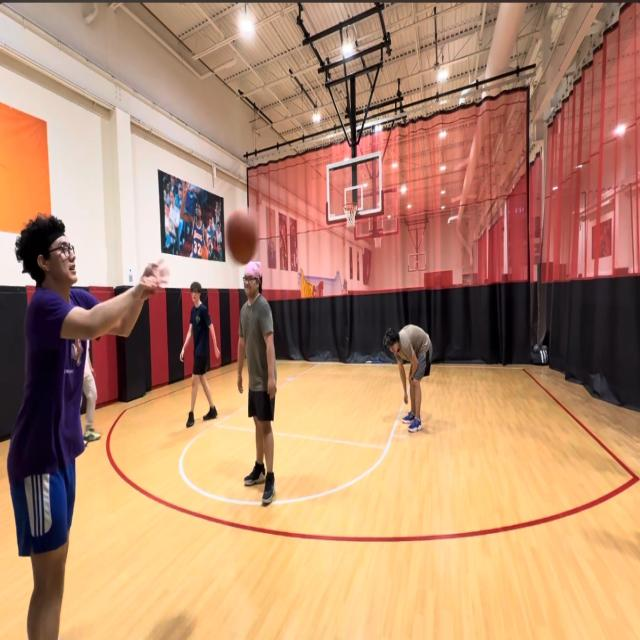Basketball: (225, 210, 258, 264)
Basketball Rim: (343, 202, 358, 228)
